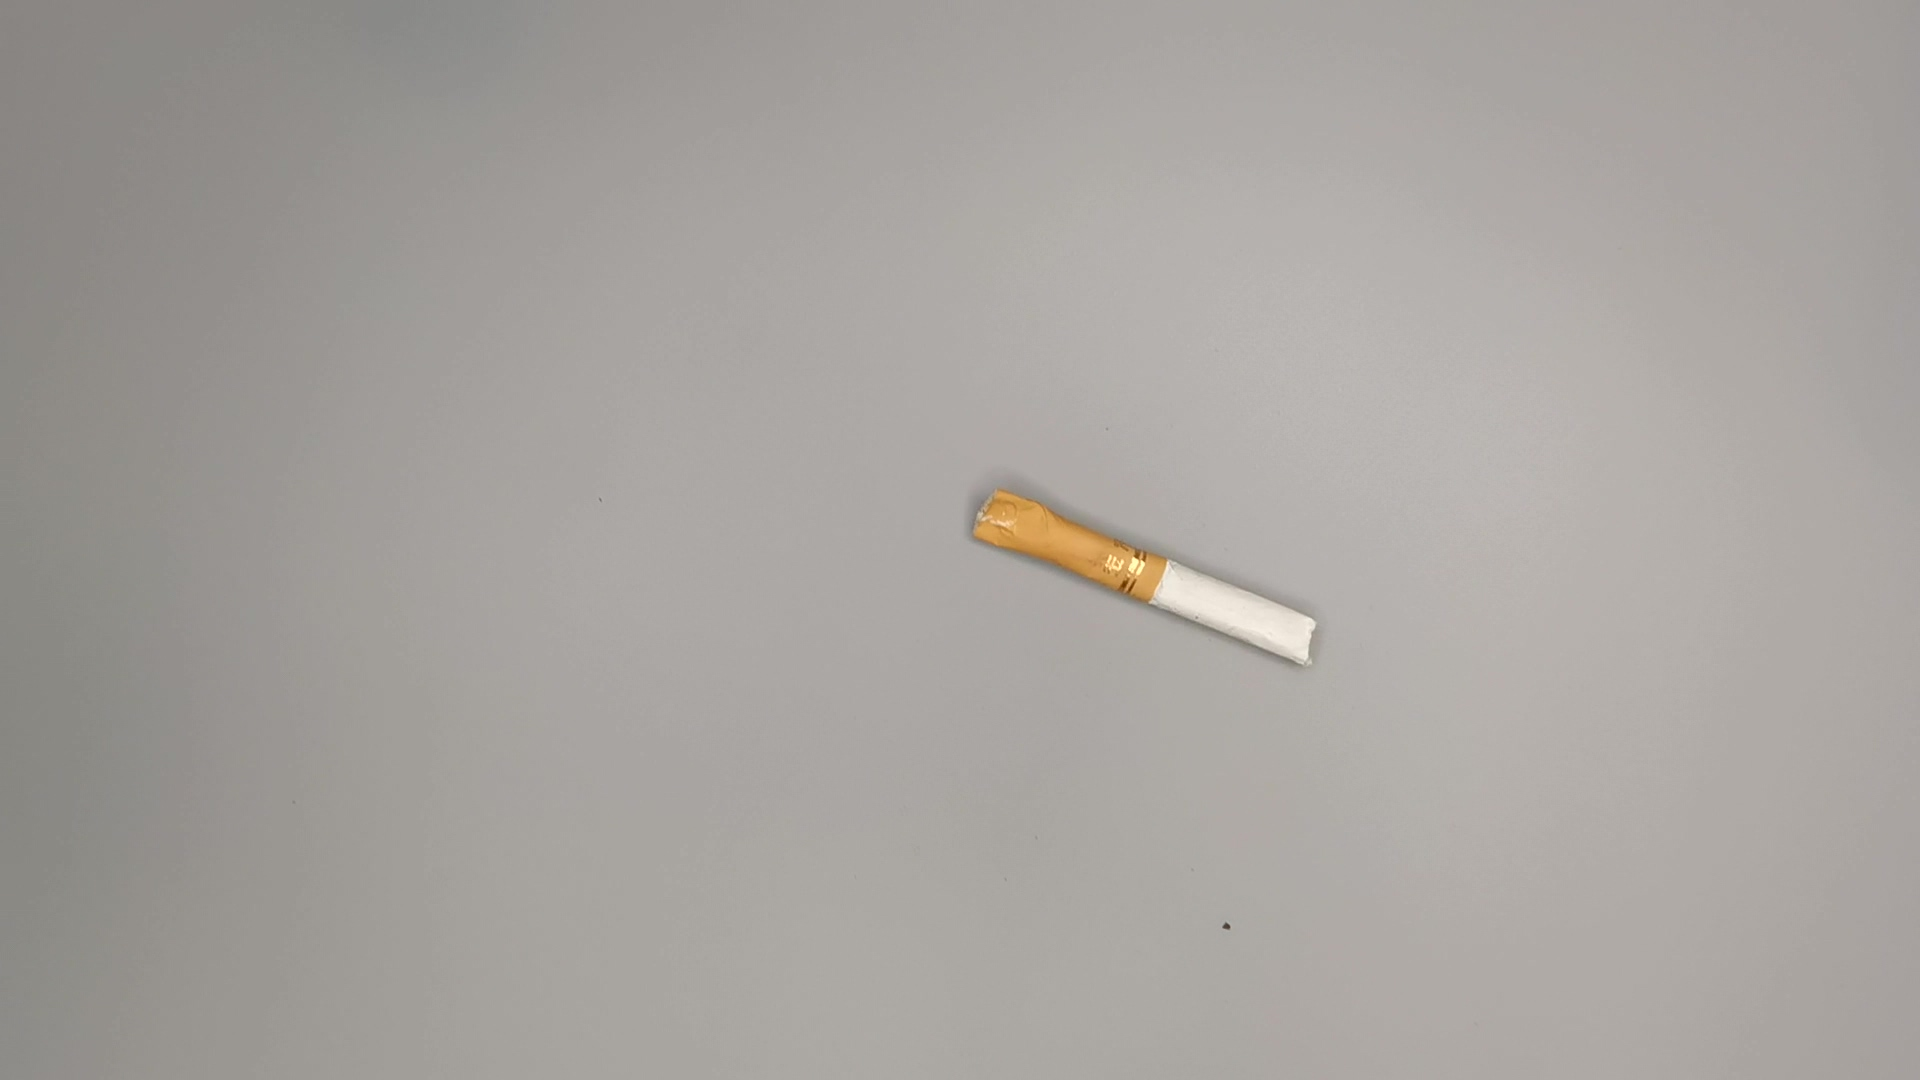cigarette: (956, 487, 1333, 679)
